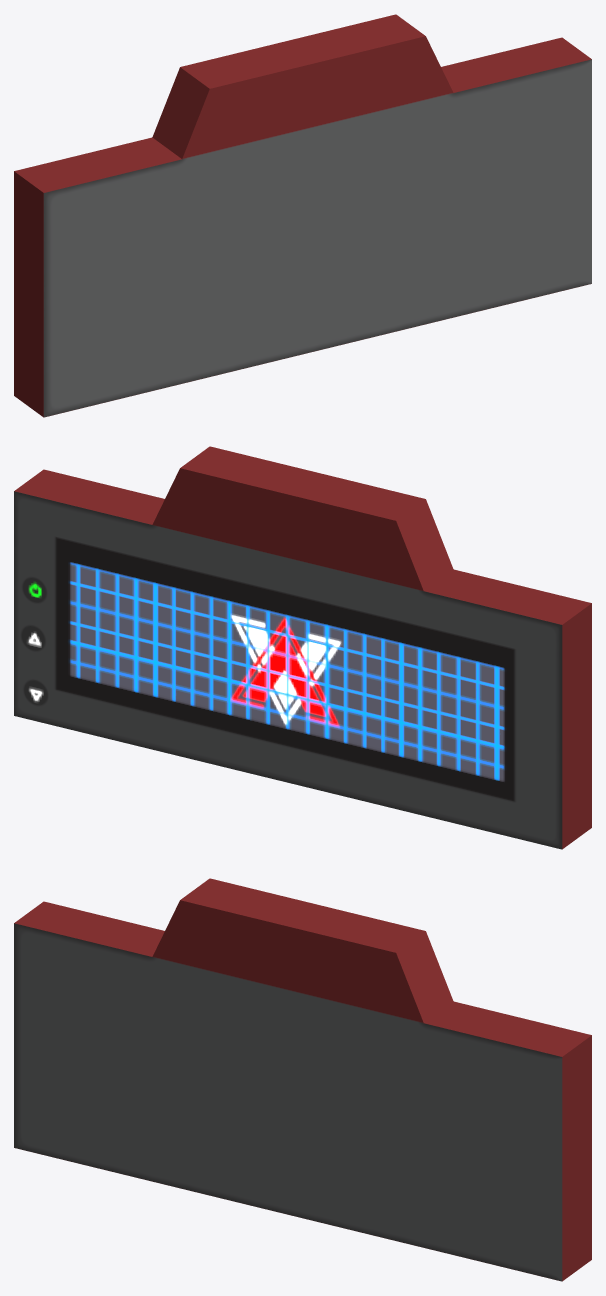
The model's file is FUT0510010.fbx.
3 views of the same model, one above another, from view 1: azimuth 30°, elevation 25°; view 2: azimuth 150°, elevation 25°; view 3: azimuth 330°, elevation 25° (orthographic).
Visible parts, largest first — view 1: smFUT0510010; view 2: smFUT0510010; view 3: smFUT0510010.
Part boxes in pixels (x1,y1,x2,y2): smFUT0510010: (14,14,591,417); smFUT0510010: (14,446,591,849); smFUT0510010: (14,878,591,1281).
Bounding box in the file's own units: 142 × 71.53 × 13.41.
Materials: 1 (1 with a texture image).
